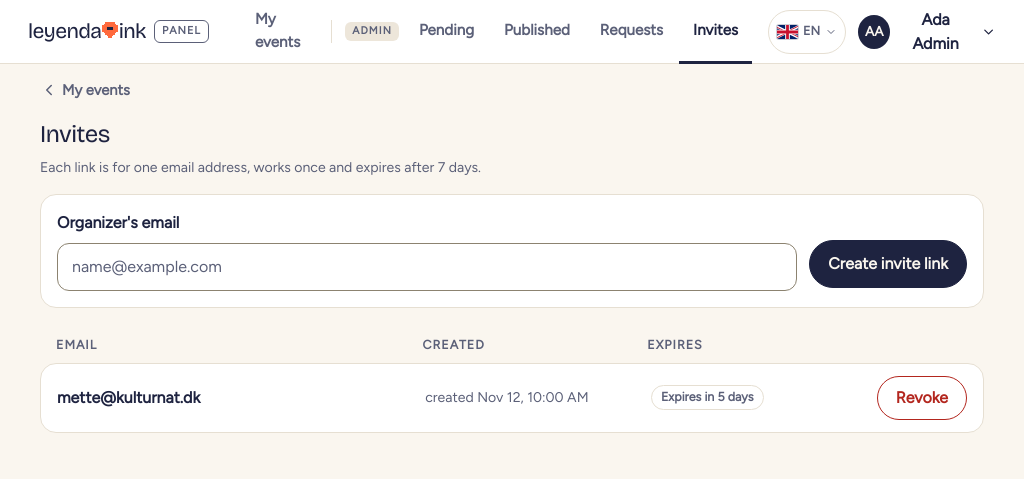
Test: admin invites › maps the 409 invite_already_pending to a fixed message
Type "ana@havnelobet.dk" into the field labelled "Organizer's email".
click(427, 267); type("ana@havnelobet.dk")  # box x1=57 y1=243 x2=797 y2=291
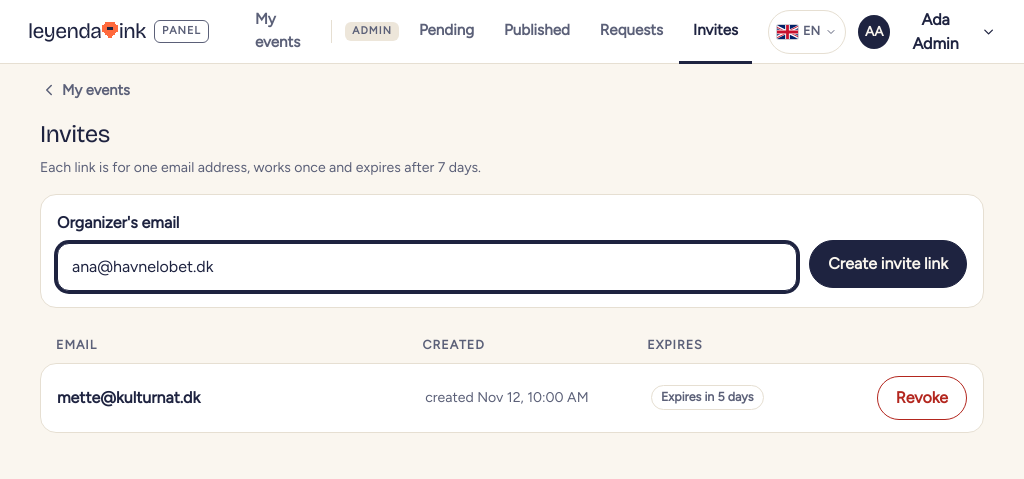
Click the button "Create invite link".
click(888, 264)  # box x1=809 y1=240 x2=967 y2=288
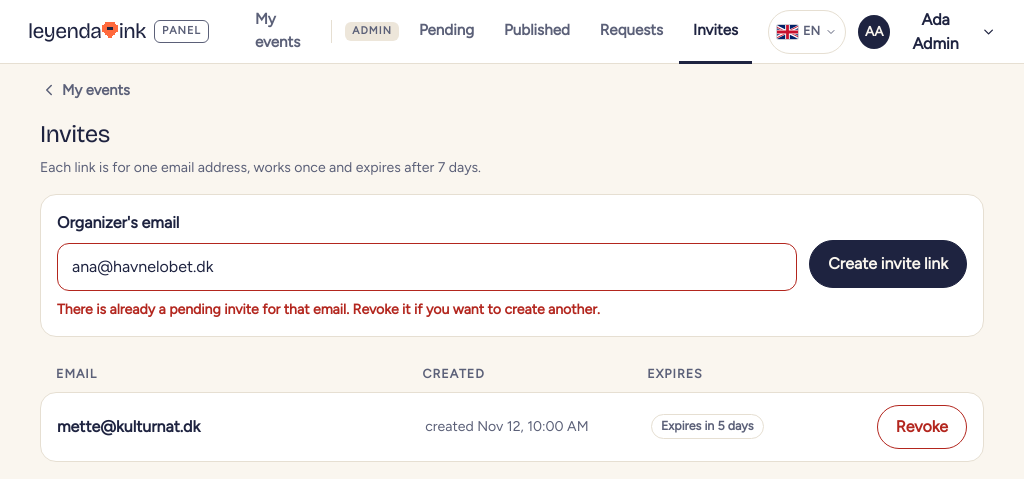
expect the text "There is already a pending invite for that email." is shown: met, box x1=57 y1=301 x2=600 y2=318
